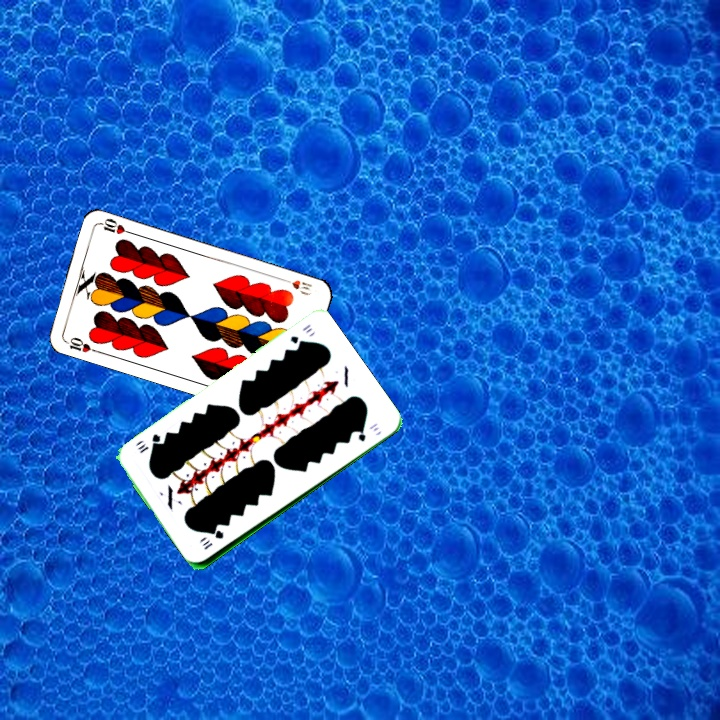G10: (286, 320, 314, 347), (198, 527, 226, 552)
H10: (61, 333, 100, 355), (278, 275, 315, 298)
